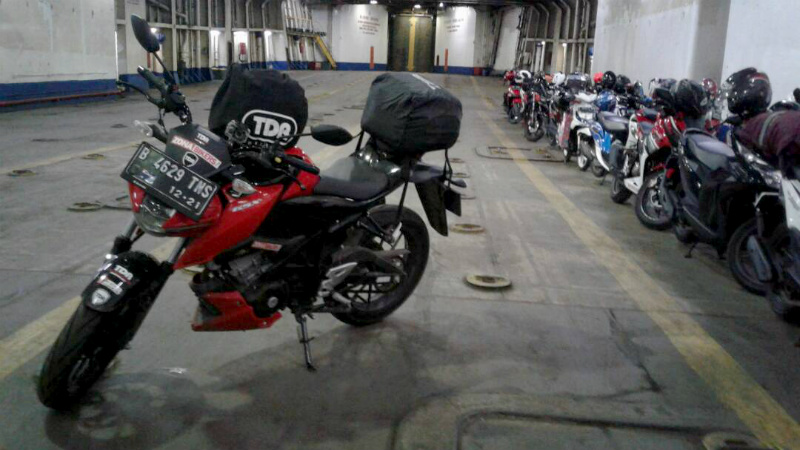plate: (122, 143, 213, 219)
